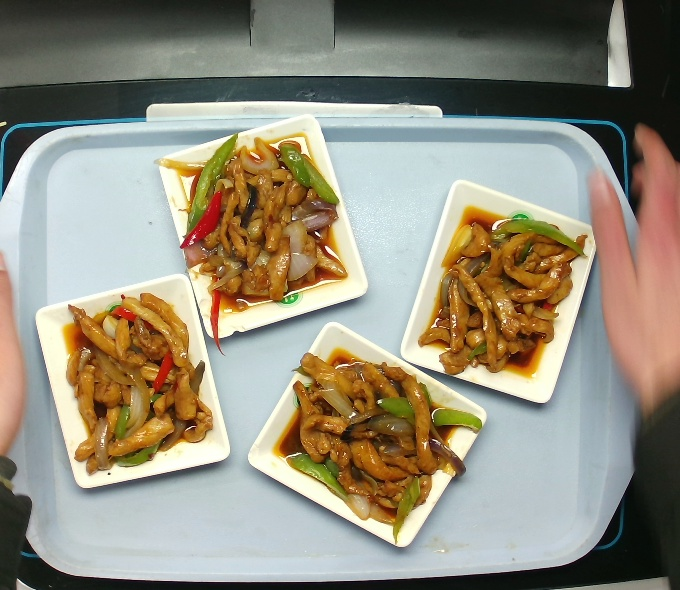wcq-YangCongChaoJiLiu: (147, 126, 359, 361), (266, 335, 486, 551), (411, 193, 595, 391), (48, 285, 219, 485)
